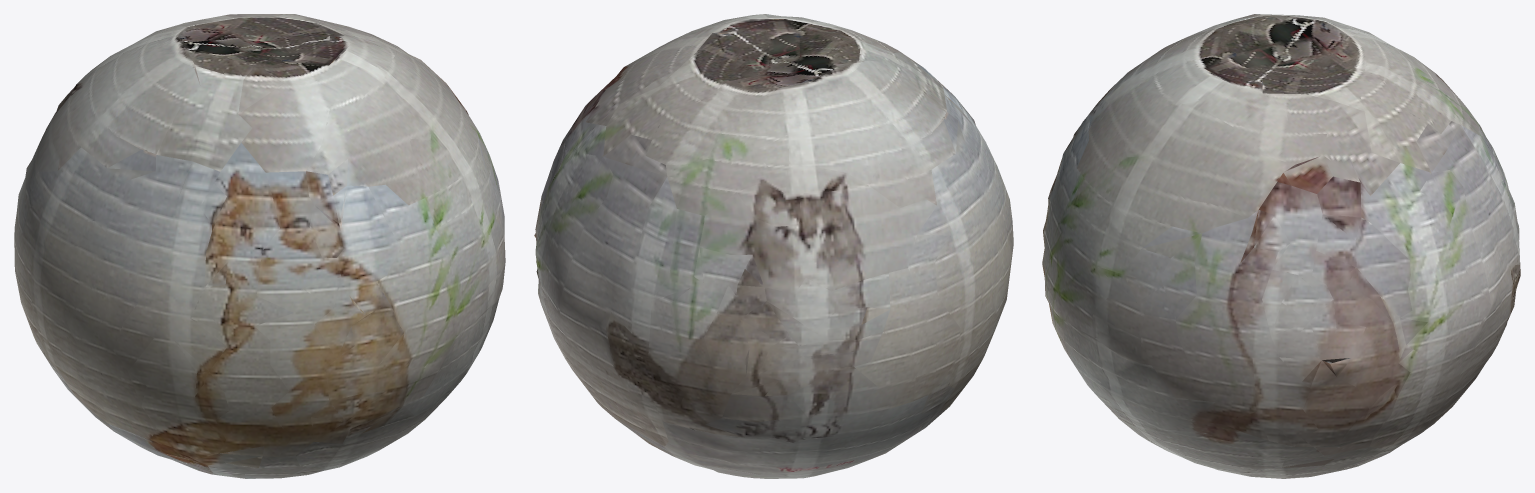
The model's file is AH2 Yona Lim Cats.glb.
3 renders of one model, left to right at view 1: azimuth 30°, elevation 25°; view 2: azimuth 150°, elevation 25°; view 3: azimuth 270°, elevation 25°, orthographic. The views are drawn at different scales.
Bounding box in the file's own units: 1000 × 929 × 990.
1 material, 1 textured.
